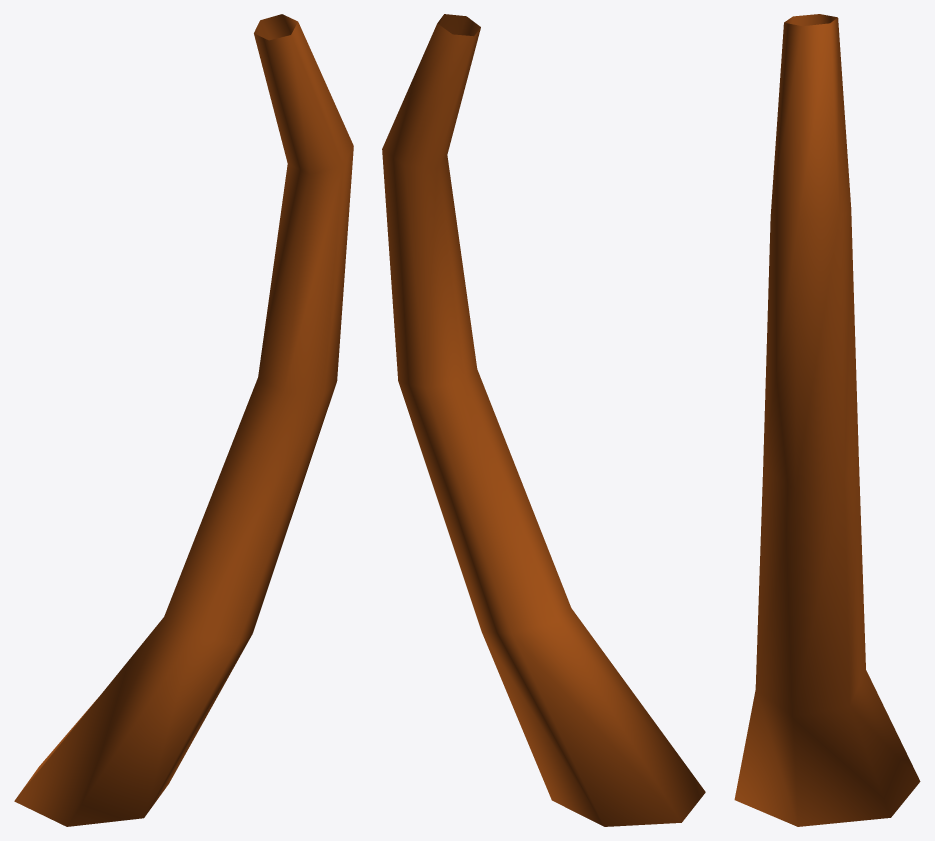
File: TreeTrunk_08.fbx
The picture shows the model from 3 angles, left to right: view 1: azimuth 30°, elevation 25°; view 2: azimuth 150°, elevation 25°; view 3: azimuth 270°, elevation 25°; orthographic projection. The views are drawn at different scales.
Parts seen in each view (by area): view 1: TreeTrunk_08; view 2: TreeTrunk_08; view 3: TreeTrunk_08.
Part boxes in pixels (x1,y1,x2,y2): TreeTrunk_08: (14, 14, 353, 826); TreeTrunk_08: (382, 14, 705, 826); TreeTrunk_08: (734, 14, 920, 826).
Size of the model in its own units: 114 by 253 by 48.23.
